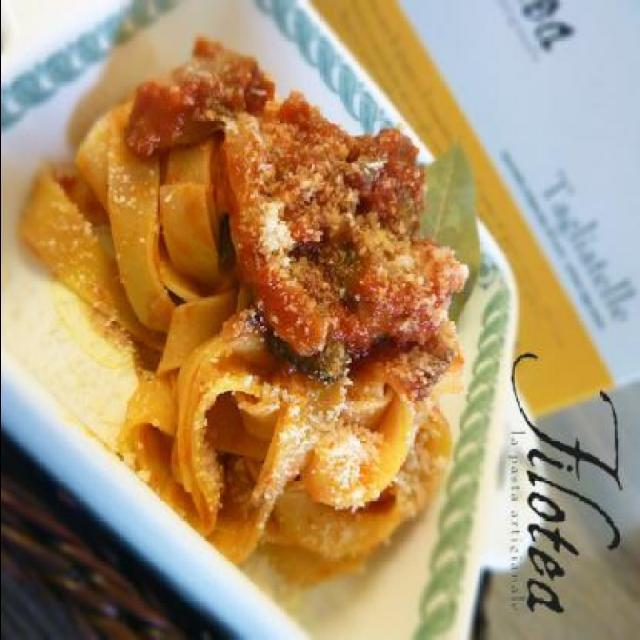Pasta al ragu: (53, 60, 499, 578)
